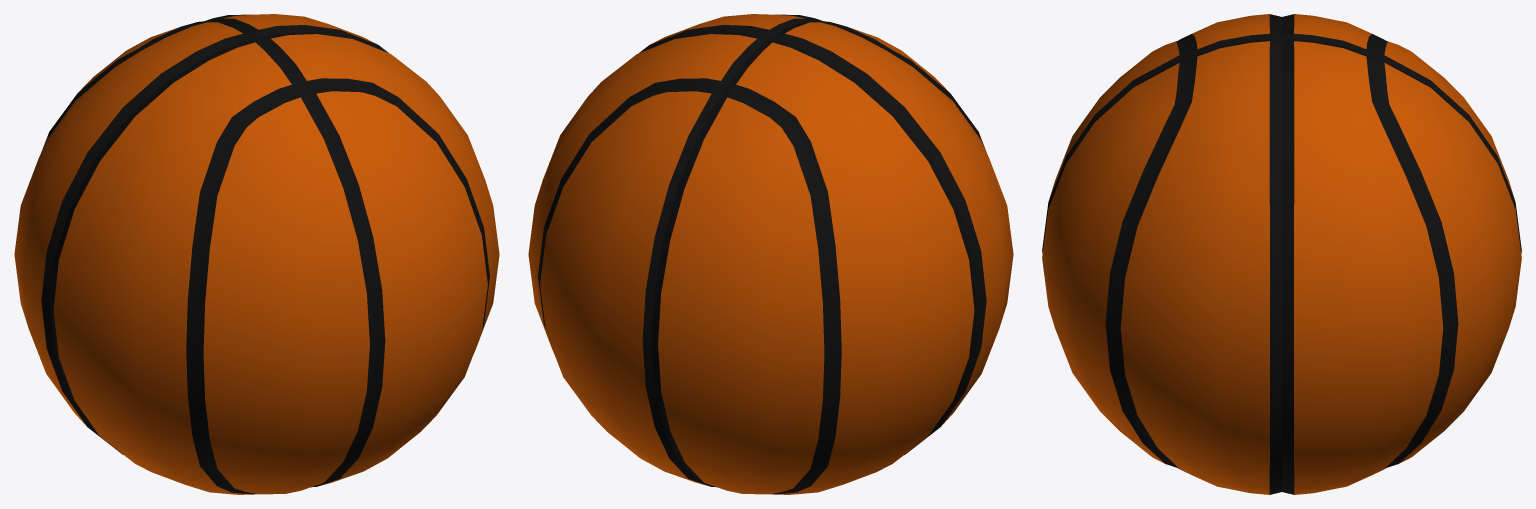
File: Collectable_Basketball_01.fbx
The picture shows the model from 3 angles, left to right: view 1: azimuth 30°, elevation 25°; view 2: azimuth 150°, elevation 25°; view 3: azimuth 270°, elevation 25°; orthographic projection.
Visible parts, largest first — view 1: Collectable_Basketball_01; view 2: Collectable_Basketball_01; view 3: Collectable_Basketball_01.
Boxes of the visible parts, box(x1,y1,x2,y2) form: Collectable_Basketball_01: box(14, 14, 499, 494); Collectable_Basketball_01: box(528, 14, 1013, 494); Collectable_Basketball_01: box(1042, 14, 1521, 494).
Size of the model in its own units: 56.48 by 56.24 by 56.32.
1 material, 1 textured.
